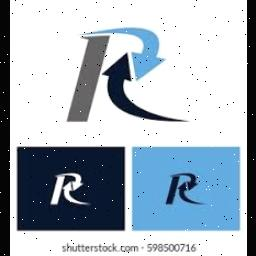r: (60, 18, 192, 128), (158, 167, 206, 211), (46, 168, 94, 210)
